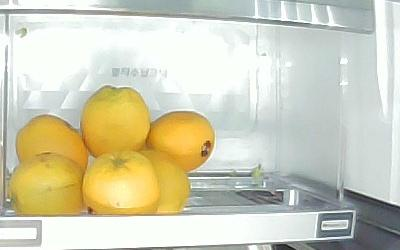orange: (81, 85, 150, 159), (83, 151, 159, 214), (10, 153, 83, 215), (15, 113, 88, 174), (145, 110, 216, 171)
